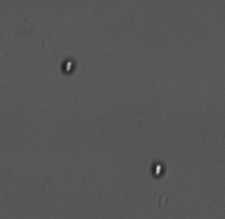Living Cell: (59, 57, 76, 75), (150, 160, 167, 178)
